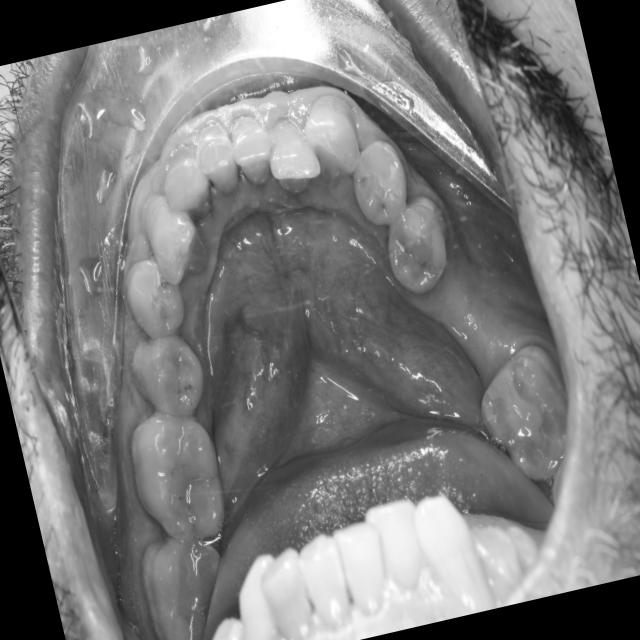tooth: (459, 336, 589, 507), (114, 392, 244, 560), (111, 312, 224, 438), (123, 527, 242, 640), (366, 185, 469, 314), (329, 119, 431, 244), (129, 176, 222, 297), (289, 79, 379, 203), (113, 242, 198, 356), (152, 139, 230, 239), (254, 112, 335, 206), (221, 97, 291, 204), (188, 113, 253, 211)
